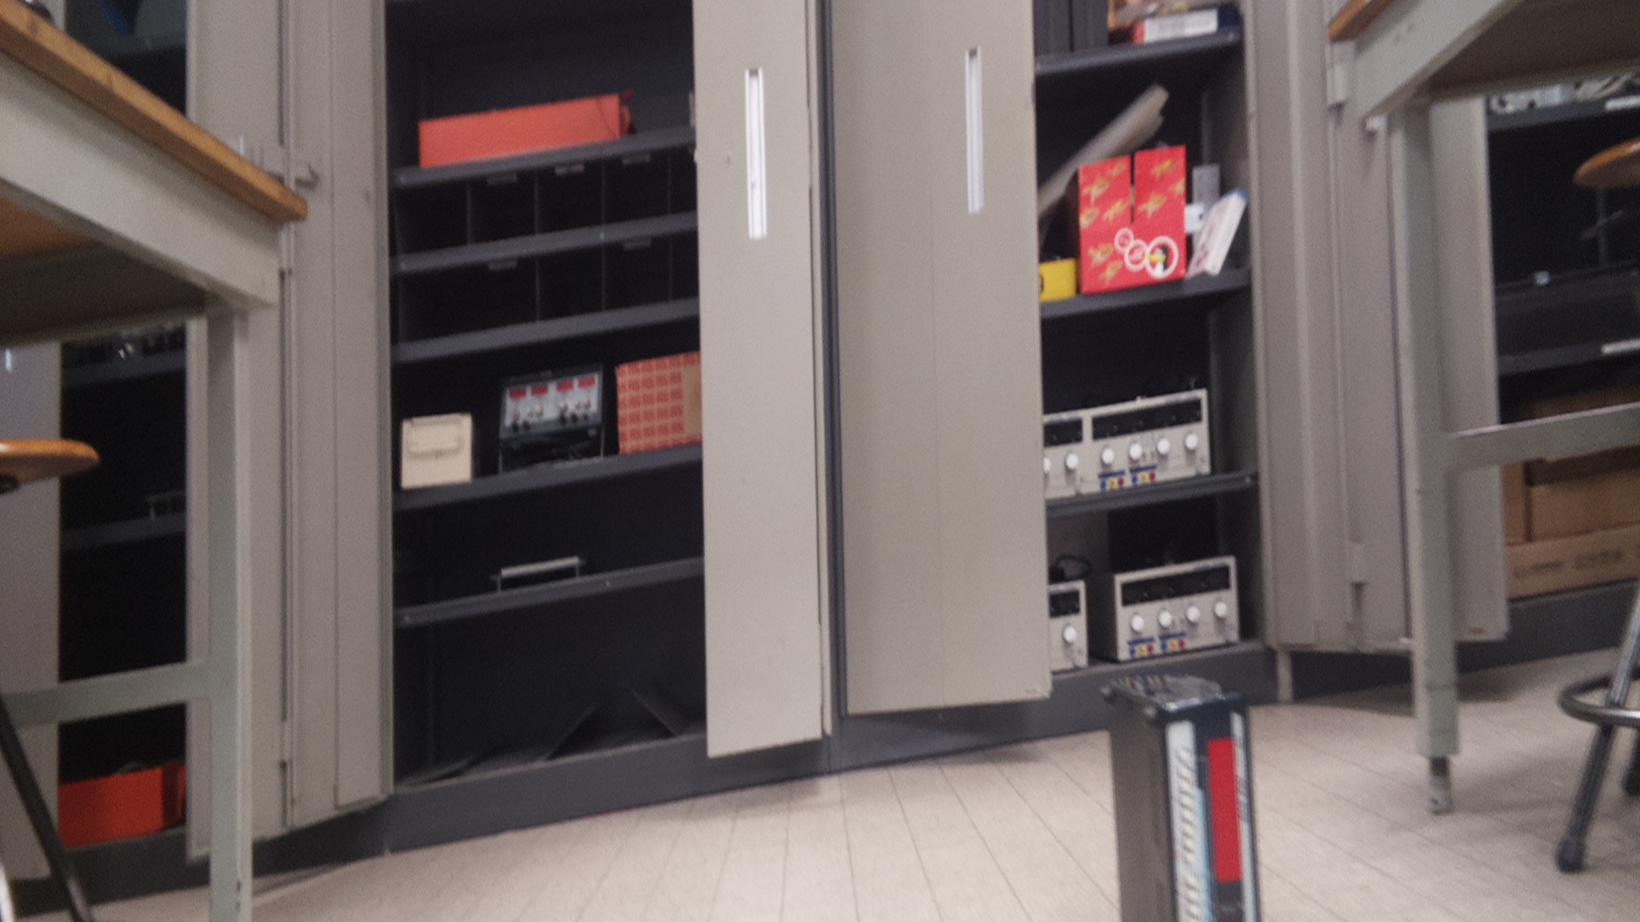medium: (1105, 668, 1264, 922)
